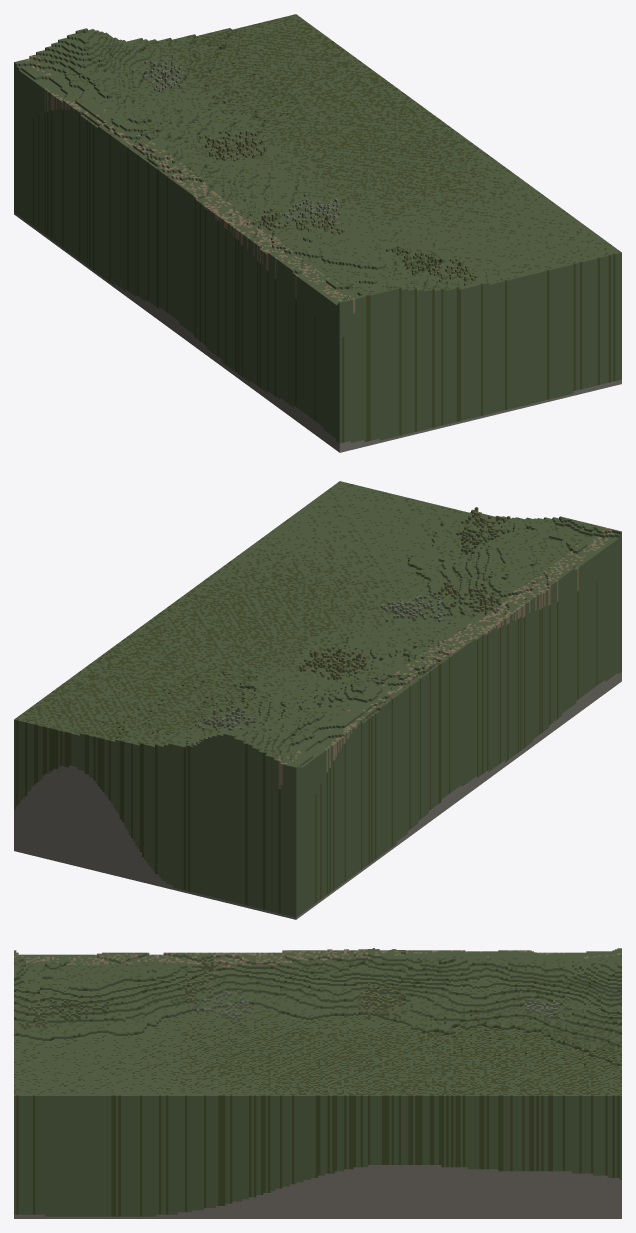
File: Combined Desert(3)-7-tile 7.obj
3 renders of one model, top to bottom at view 1: azimuth 30°, elevation 25°; view 2: azimuth 150°, elevation 25°; view 3: azimuth 270°, elevation 25°, orthographic. The views are drawn at different scales.
Parts seen in each view (by area): view 1: tile 7; view 2: tile 7; view 3: tile 7.
Part boxes in pixels (box(x1,y1,x2,y2)): tile 7: box(14, 14, 621, 452); tile 7: box(14, 481, 621, 919); tile 7: box(14, 948, 621, 1218).
Bounding box in the file's own units: 12.8 × 7.3 × 25.6.
1 material, 1 textured.
